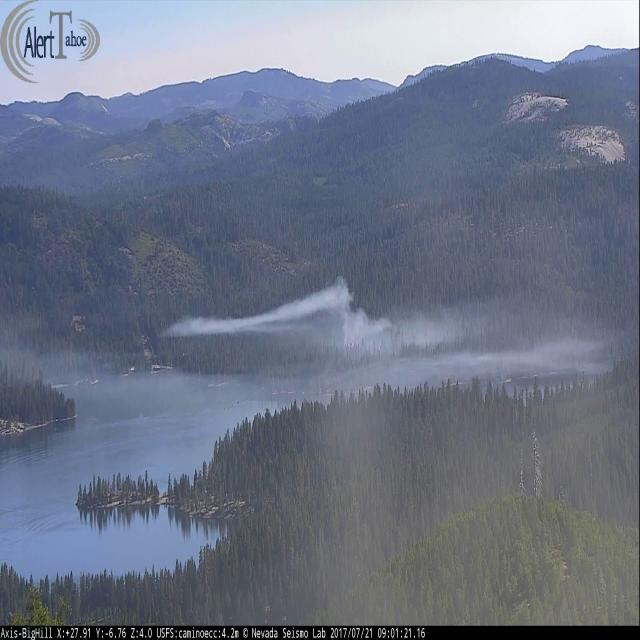smoke: (0, 310, 621, 425), (163, 272, 488, 358)
